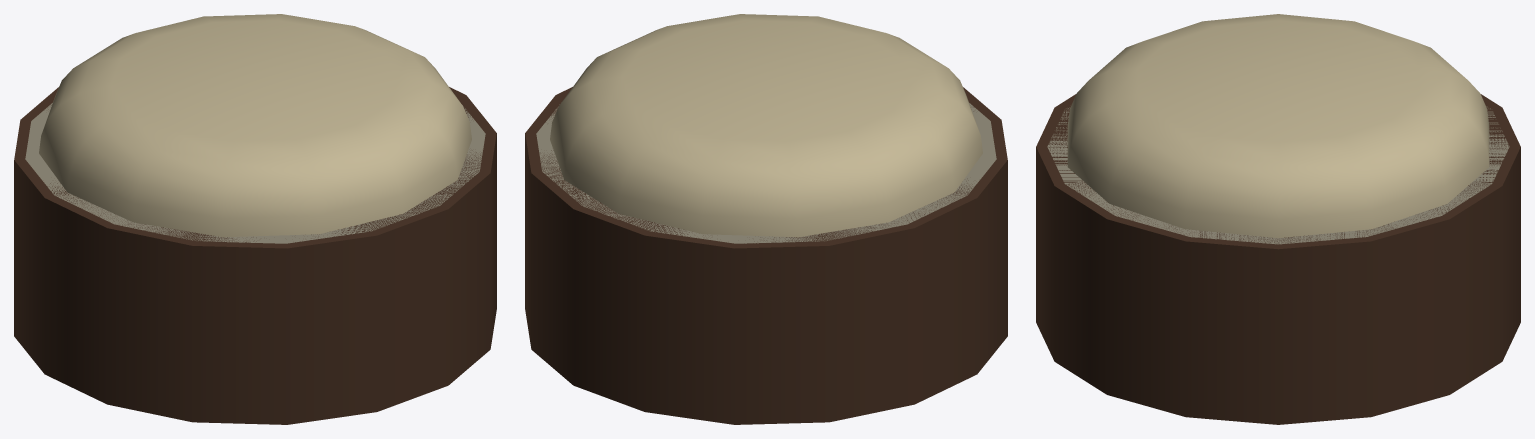
Rendered from sushi.obj.
3 views of the same model, side by side, from view 1: azimuth 30°, elevation 25°; view 2: azimuth 150°, elevation 25°; view 3: azimuth 270°, elevation 25° (orthographic).
Parts seen in each view (by area): view 1: sushi; view 2: sushi; view 3: sushi.
Part boxes in pixels (x1,y1,x2,y2): sushi: (14, 14, 496, 424); sushi: (525, 14, 1007, 424); sushi: (1036, 14, 1520, 424).
Bounding box in the file's own units: 1.3 × 0.72 × 1.3.
